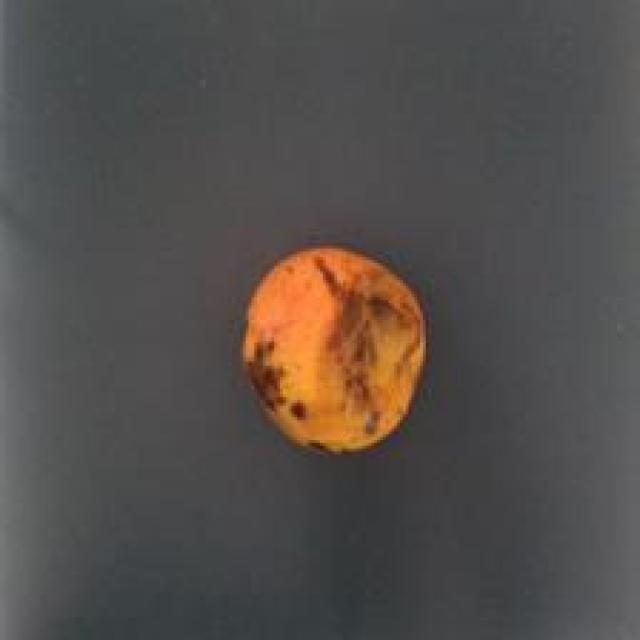black spot: (239, 242, 433, 460)
